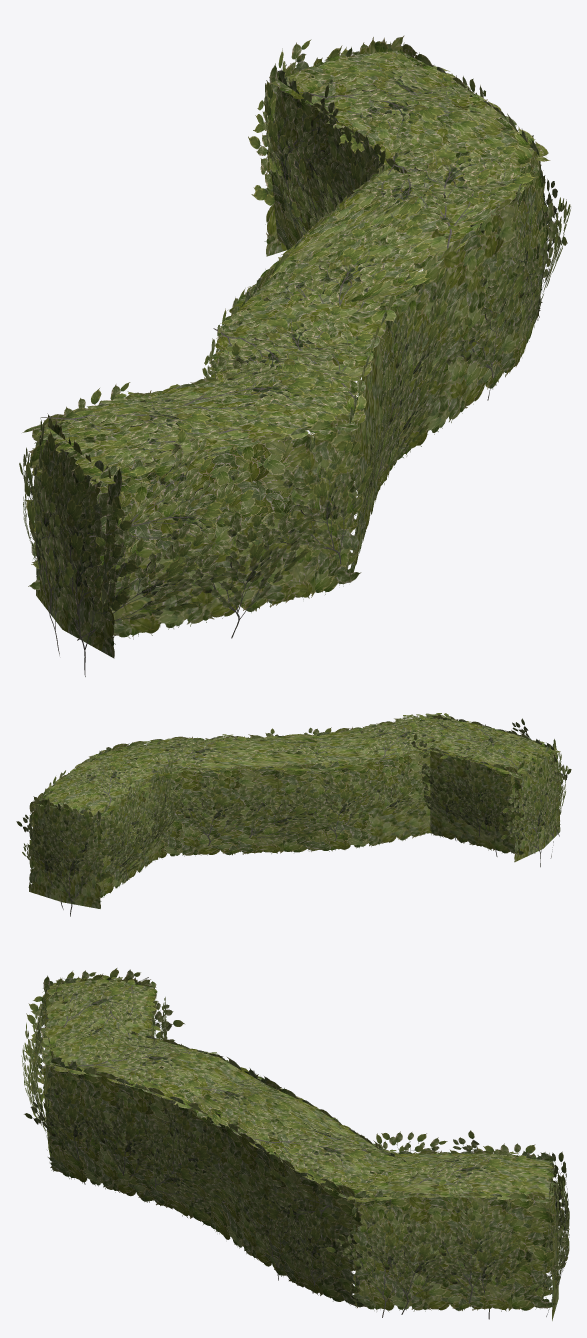
Rendered from MB_Boxwood_Shrubs_02.fbx.
The picture shows the model from 3 angles, top to bottom: view 1: azimuth 30°, elevation 25°; view 2: azimuth 150°, elevation 25°; view 3: azimuth 270°, elevation 25°; orthographic projection. The views are drawn at different scales.
Parts seen in each view (by area): view 1: MB_Boxwood_Shrubs_02_LOD0; view 2: MB_Boxwood_Shrubs_02_LOD0; view 3: MB_Boxwood_Shrubs_02_LOD0.
Boxes of the visible parts, bbox=[...] form: MB_Boxwood_Shrubs_02_LOD0: bbox=[19, 35, 570, 676]; MB_Boxwood_Shrubs_02_LOD0: bbox=[16, 713, 571, 916]; MB_Boxwood_Shrubs_02_LOD0: bbox=[21, 968, 569, 1320].
Size of what is drawn, in the model's own units: 489 by 165 by 479.
